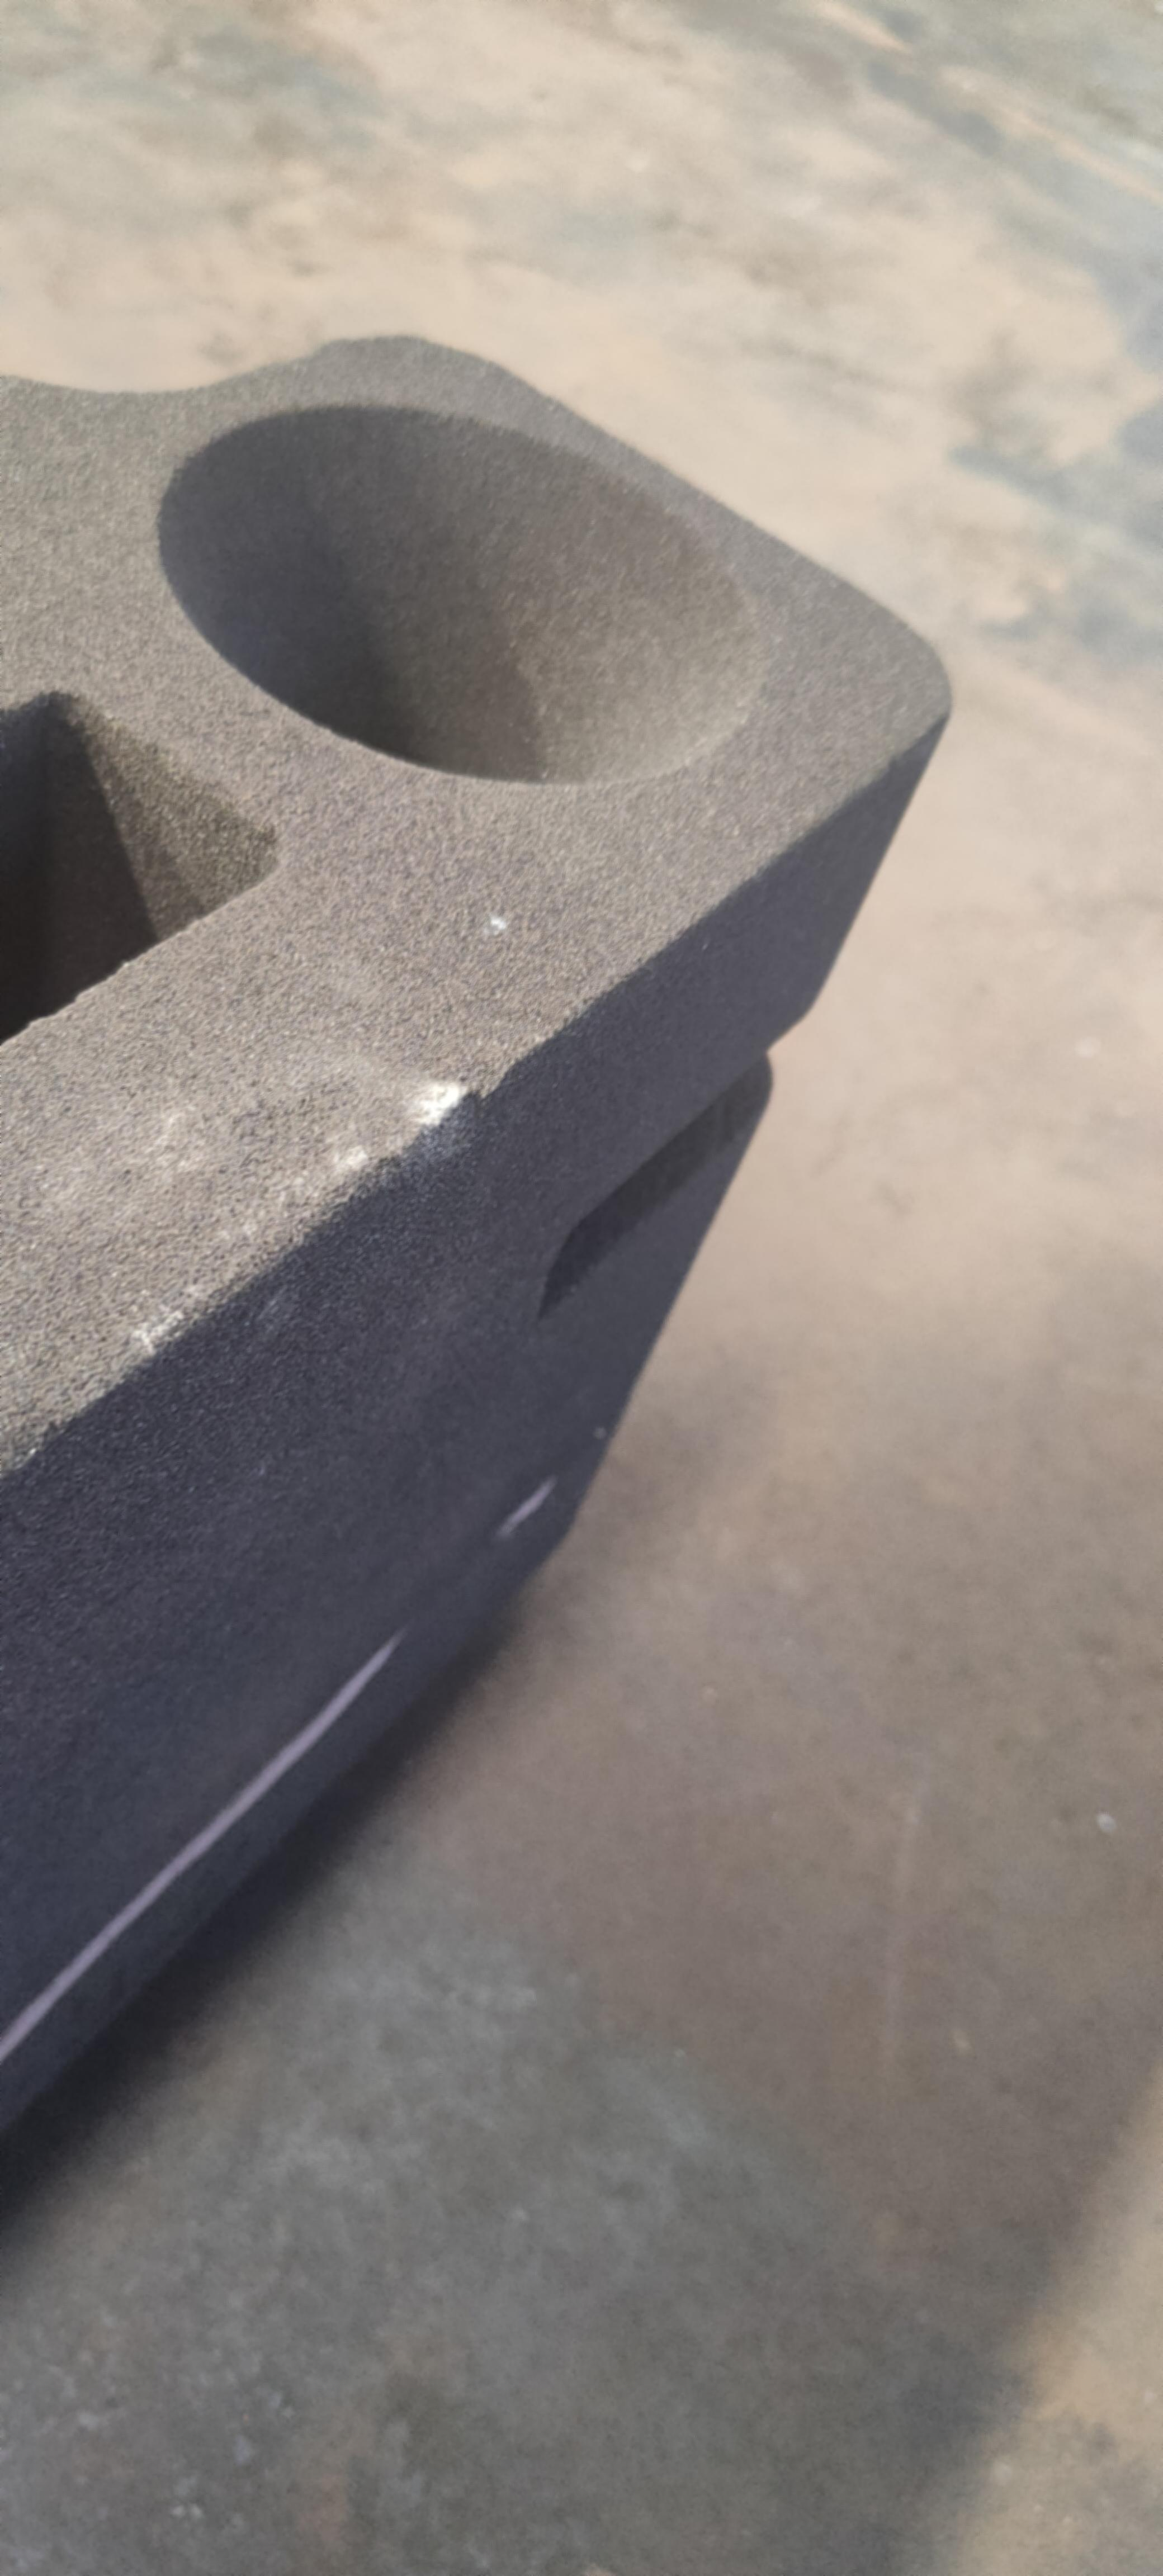pouring hole: (153, 406, 765, 785)
